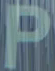Parking: (3, 1, 49, 64)
